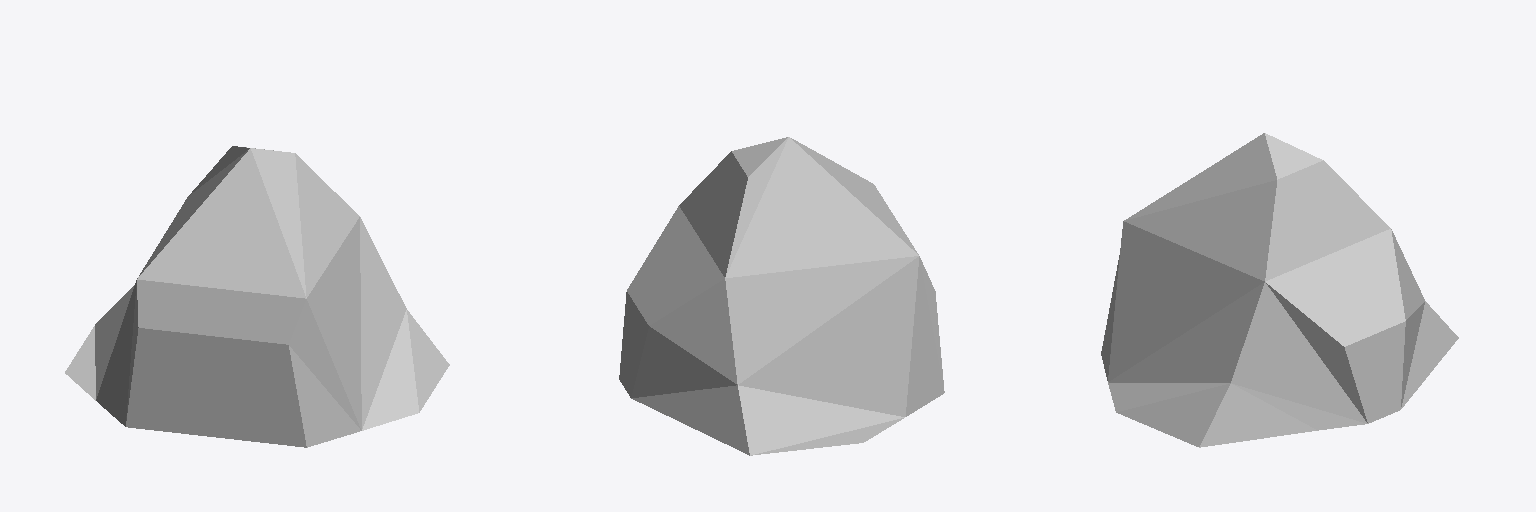
The model's file is mLv1Rock01.obj.
3 renders of one model, left to right at view 1: azimuth 30°, elevation 25°; view 2: azimuth 150°, elevation 25°; view 3: azimuth 270°, elevation 25°, orthographic.
Parts seen in each view (by area): view 1: mStoneBolder10; view 2: mStoneBolder10; view 3: mStoneBolder10.
Boxes of the visible parts, box(x1,y1,x2,y2) form: mStoneBolder10: box(65, 146, 449, 447); mStoneBolder10: box(619, 137, 944, 455); mStoneBolder10: box(1101, 133, 1458, 447).
Size of the model in its own units: 6.62 by 4.82 by 6.69.